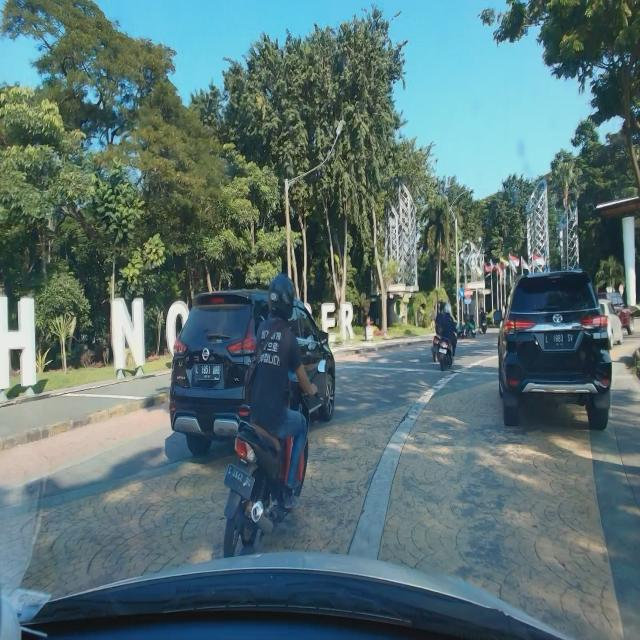car: (167, 284, 336, 462), (498, 270, 612, 432)
license-plate: (544, 331, 575, 350), (194, 363, 222, 381)
